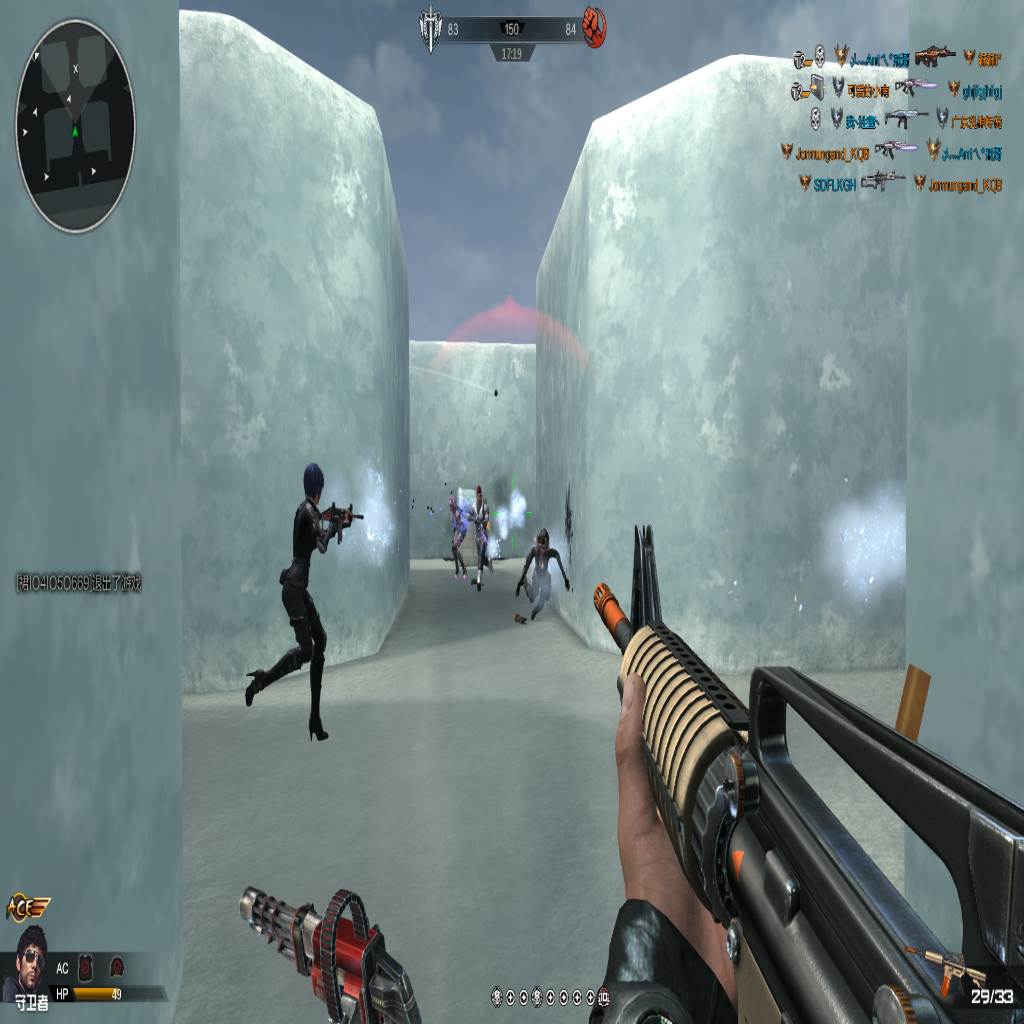tt: (471, 483, 492, 590), (449, 488, 470, 584)
